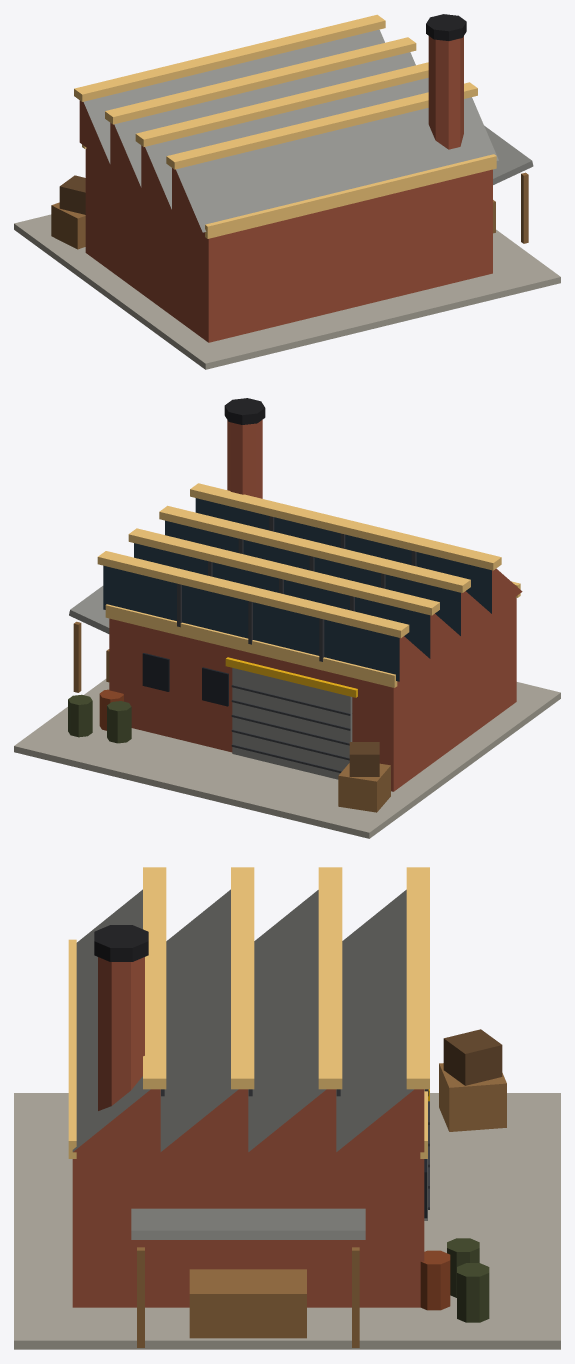
Rendered from workshop.glb.
3 renders of one model, top to bottom at view 1: azimuth 30°, elevation 25°; view 2: azimuth 150°, elevation 25°; view 3: azimuth 270°, elevation 25°, orthographic. The views are drawn at different scales.
Visible parts, largest first — view 1: workshop; view 2: workshop; view 3: workshop.
Boxes of the visible parts, bbox=[...] form: workshop: bbox=[14, 14, 560, 369]; workshop: bbox=[14, 398, 560, 838]; workshop: bbox=[14, 867, 560, 1349].
Size of the model in its own units: 3.11 by 2.03 by 2.8.
